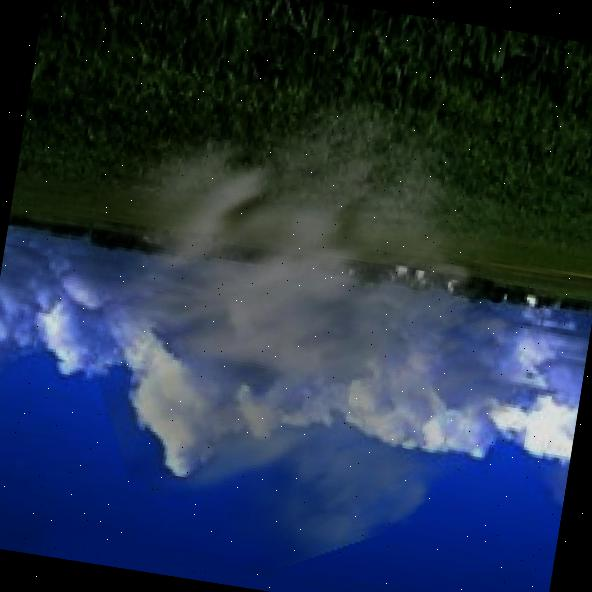smoke: (0, 23, 586, 592)
